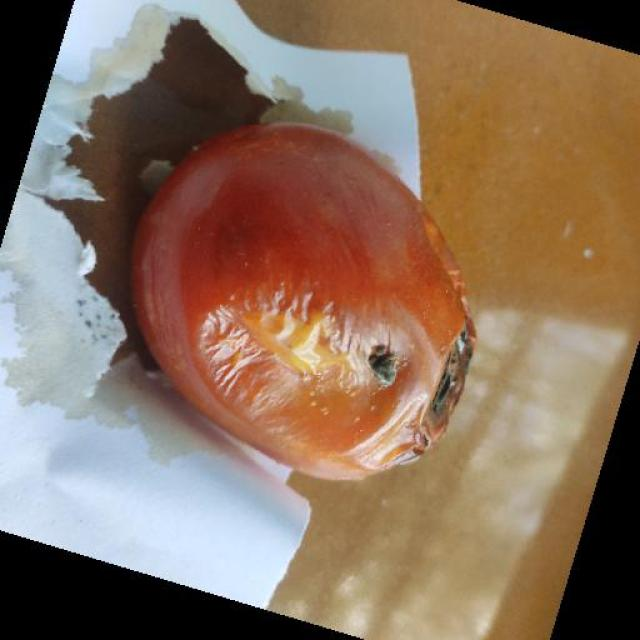Stale_tomato: (106, 122, 484, 434)
